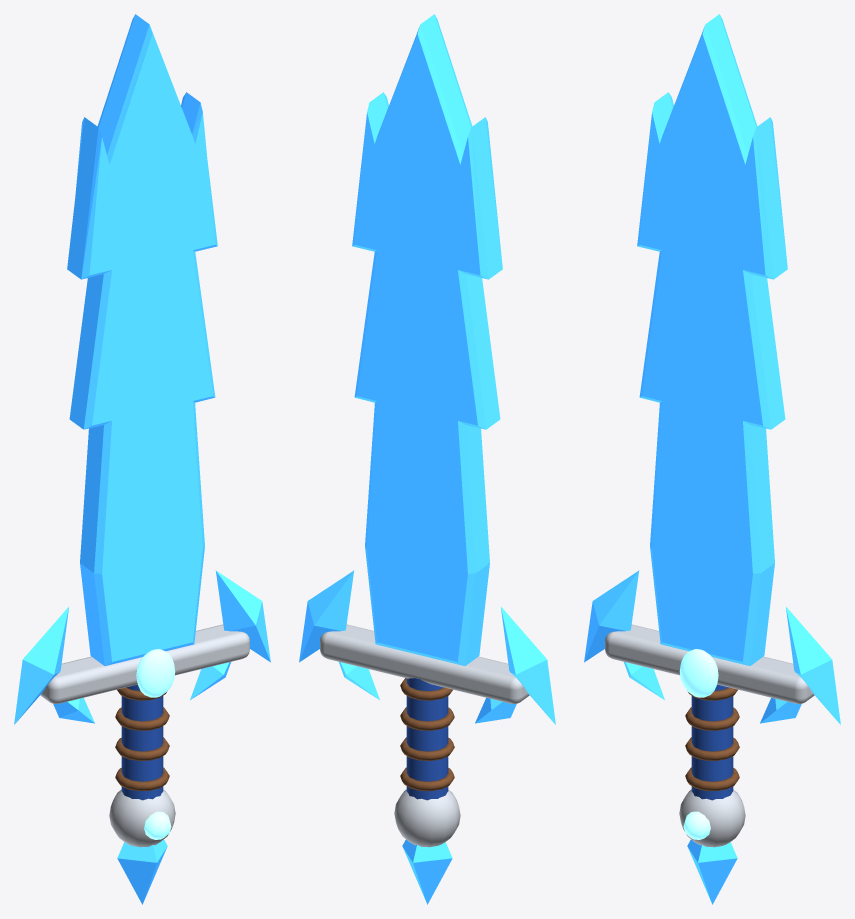
File: sword_ice.glb
The picture shows the model from 3 angles, left to right: view 1: azimuth 30°, elevation 25°; view 2: azimuth 150°, elevation 25°; view 3: azimuth 330°, elevation 25°; orthographic projection.
Visible parts, largest first — view 1: Blade, Crossbar, Grip, ShardL, ShardR, Pommel, PommelCrystal, GuardGem, ShardL2, ShardR2, GripWrap2, GripWrap1 (+2 smaller); view 2: Blade, Crossbar, Grip, Pommel, ShardL, ShardR, PommelCrystal, ShardL2, ShardR2, GripWrap2, GripWrap1, GripWrap0 (+1 smaller); view 3: Blade, Crossbar, Grip, ShardR, ShardL, Pommel, PommelCrystal, GuardGem, ShardR2, ShardL2, GripWrap2, GripWrap1 (+2 smaller).
Part boxes in pixels (x1,y1,x2,y2): Blade: (67,14,217,665); Crossbar: (40,624,249,703); Grip: (121,684,163,800); ShardL: (14,607,68,724); ShardR: (215,570,270,662); Pommel: (109,789,175,847); PommelCrystal: (117,839,167,904); GuardGem: (136,649,175,697); ShardL2: (53,698,94,723); ShardR2: (190,662,230,699); GripWrap2: (115,707,169,730); GripWrap1: (115,737,169,760); Blade: (352,14,502,665); Crossbar: (320,624,529,703); Grip: (406,678,448,800); Pommel: (394,789,460,847); ShardL: (501,607,555,724); ShardR: (299,570,354,662); PommelCrystal: (402,839,452,904); ShardL2: (475,698,516,723); ShardR2: (339,662,379,699); GripWrap2: (400,707,454,730); GripWrap1: (400,737,454,760); GripWrap0: (400,767,454,790); Blade: (637,14,787,665); Crossbar: (605,624,814,703); Grip: (691,684,733,800); ShardR: (786,607,840,724); ShardL: (584,570,639,662); Pommel: (679,789,745,847); PommelCrystal: (687,839,737,904); GuardGem: (679,649,718,697); ShardR2: (760,698,801,723); ShardL2: (624,662,664,699); GripWrap2: (685,707,739,730); GripWrap1: (685,737,739,760).
Size of the model in its own units: 0.3567 by 1.17 by 0.092.
